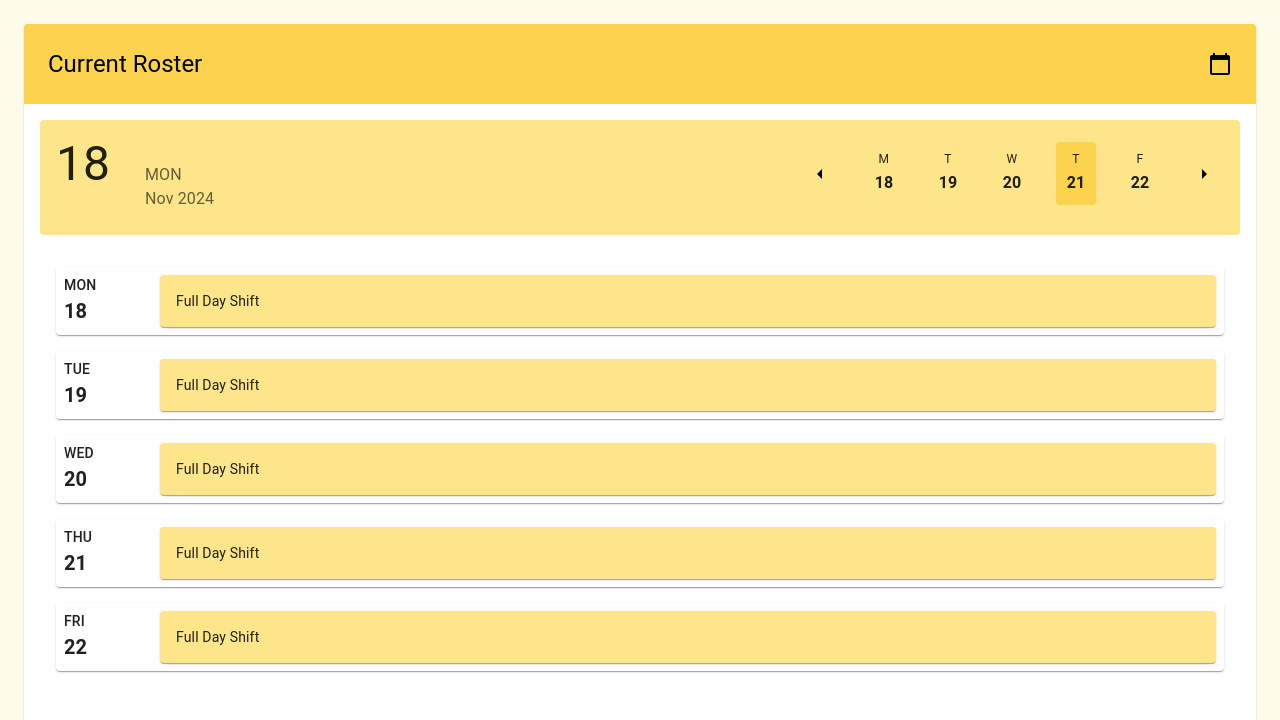
Test: Dashboard Component › navigates weeks correctly
What coordinates should you click on to do the following:
click the button with test id "ArrowRightIcon"
I would click on:
 (1204, 174)
Its box is top-left (1184, 154), bottom-right (1224, 194).
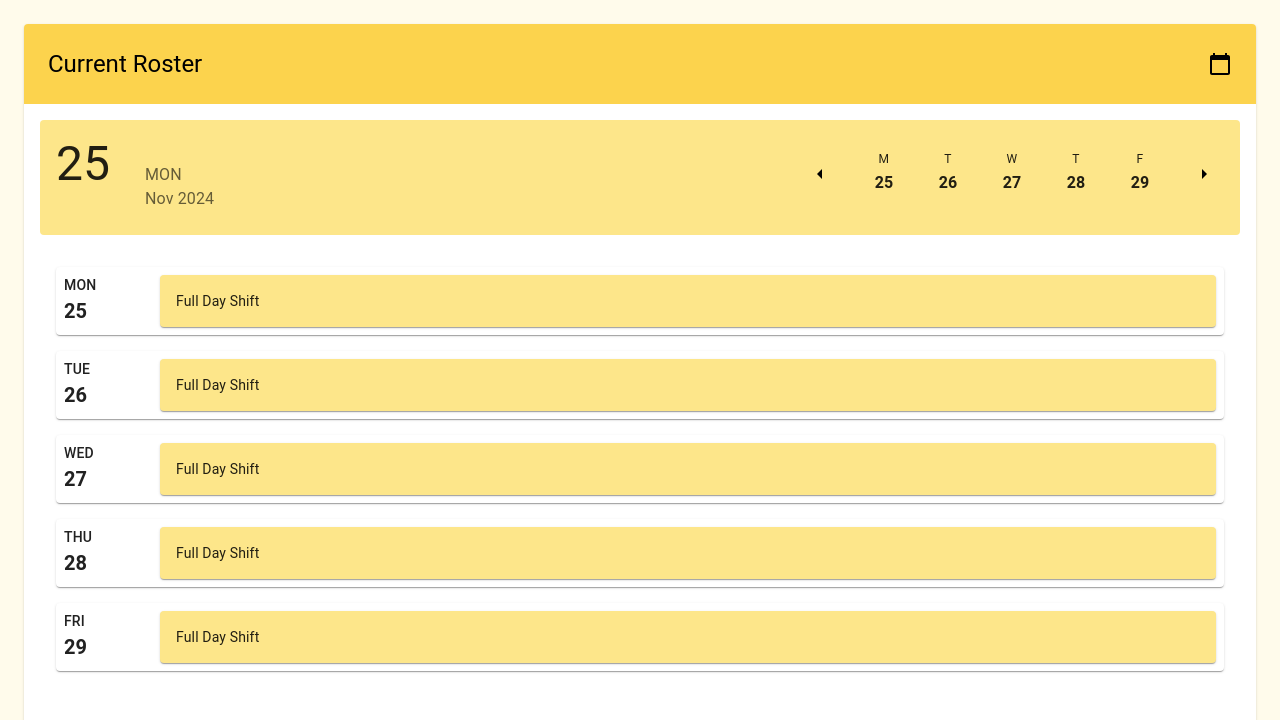
Now the heading "18" no longer shows "18"
What coordinates should you click on to do the following:
click the button with test id "ArrowLeftIcon"
I would click on:
 (820, 174)
Its box is top-left (800, 154), bottom-right (840, 194).
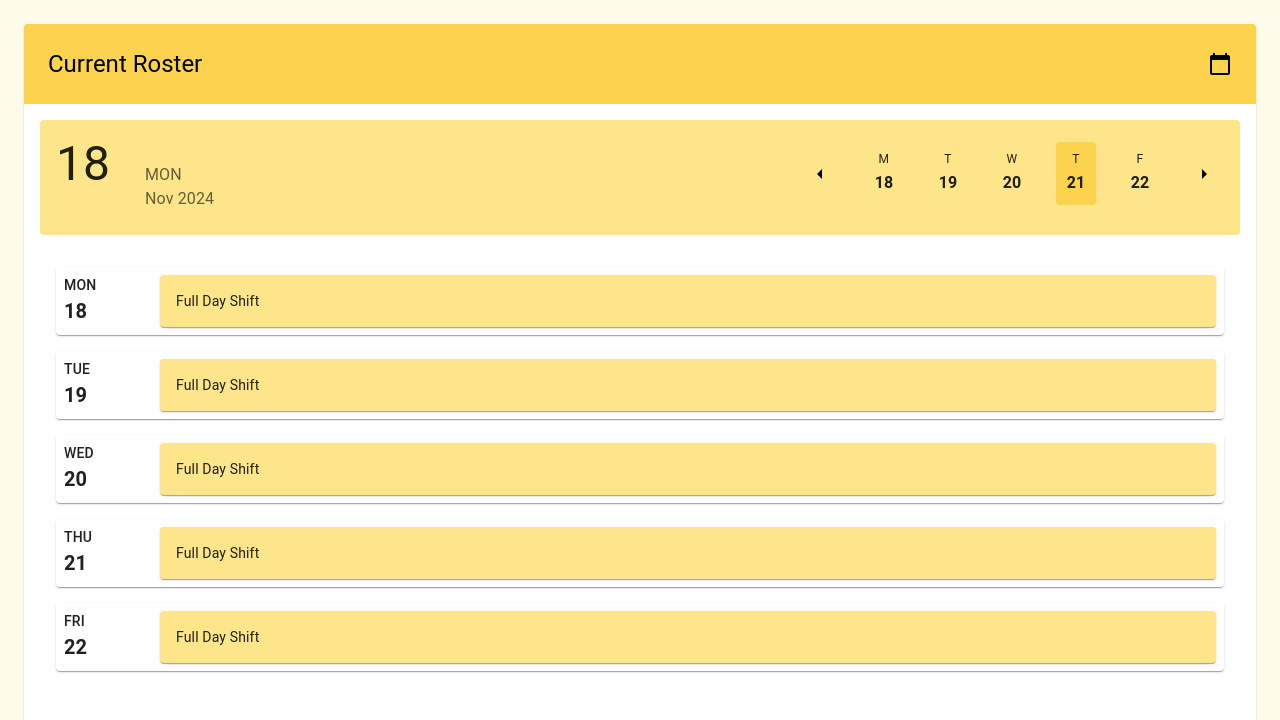
Now the 2nd heading "18" is shown, box top-left (875, 174), bottom-right (893, 192)
